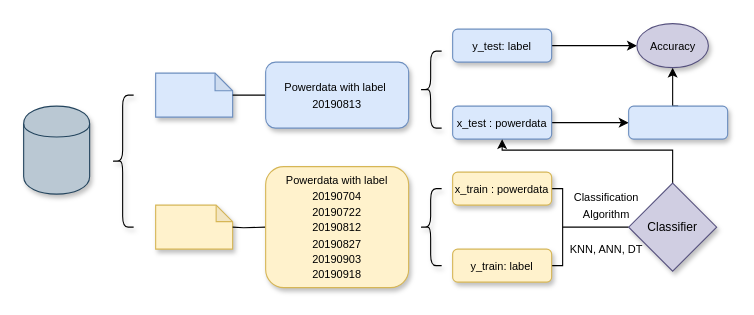
Image size: 754x315. Some labels were removed from this diagram. Here are the shapes that lost their labels. From the top down, the centre of each, then its label:
At point 194,96: "Test Data".
At point 678,124: "y_prediction : label".
At point 57,151: "Data with Machine State Label".
At point 194,228: "Train Data".
